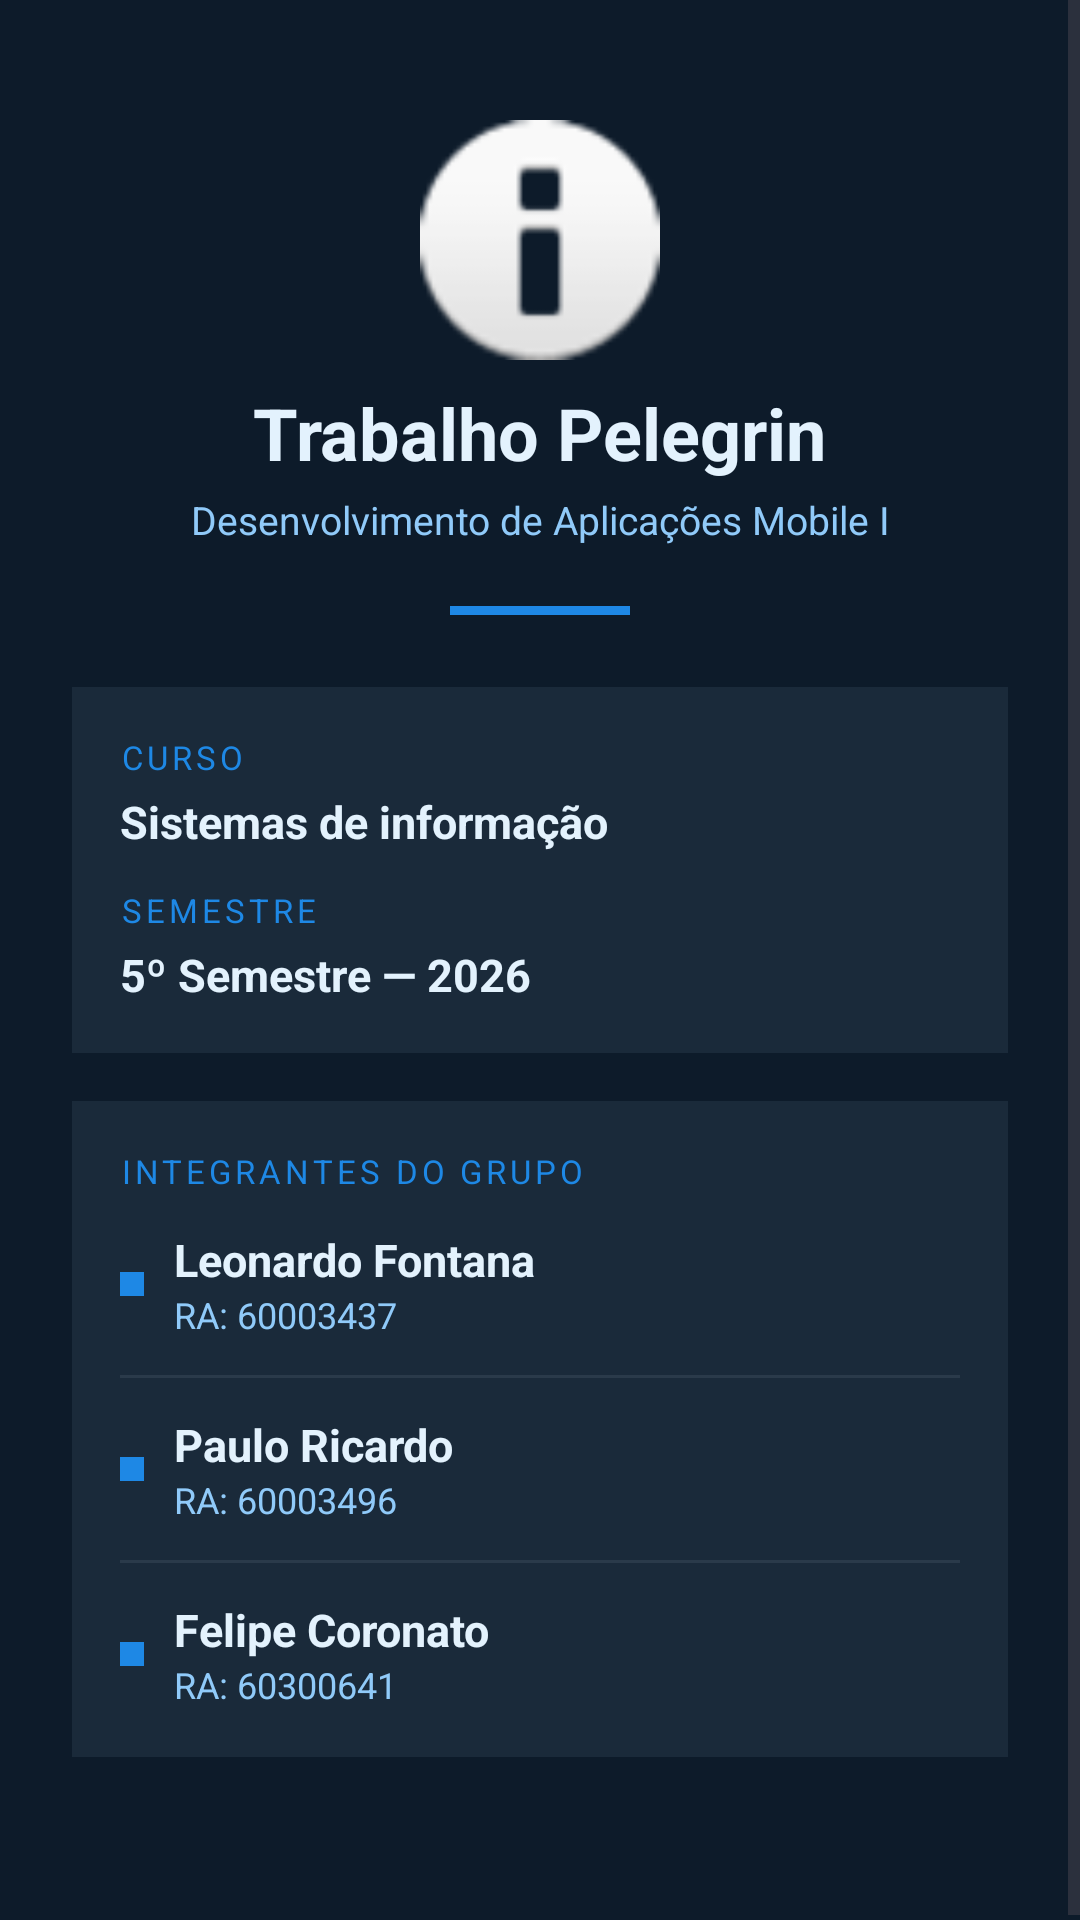

Icons on this 1080 x 1920 Android screen, each with the point to tap as (x,y):
Ícone de informações: (540,240)
